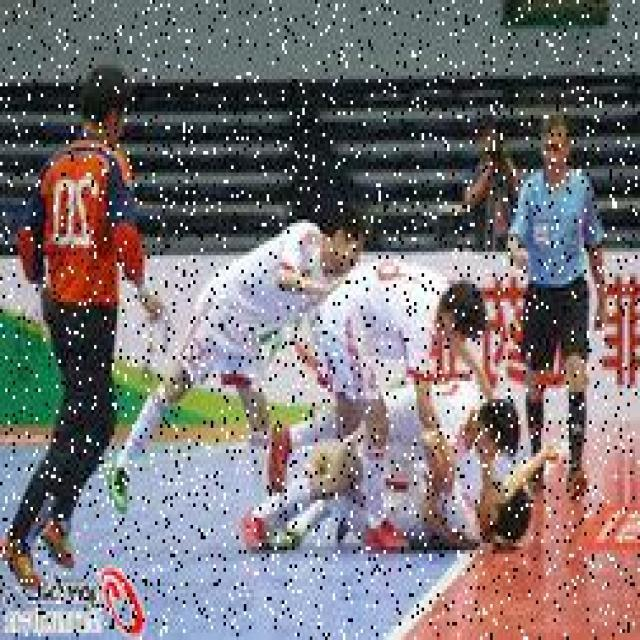fall: (242, 456, 534, 540)
